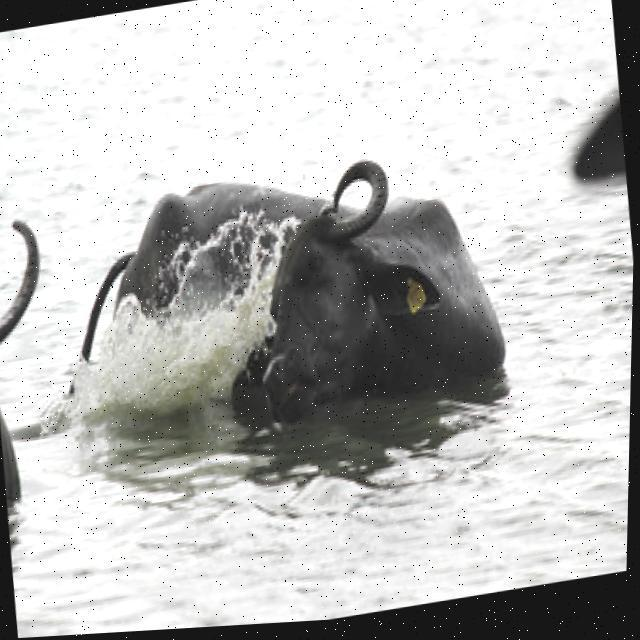Buffalo: (49, 119, 516, 469)
